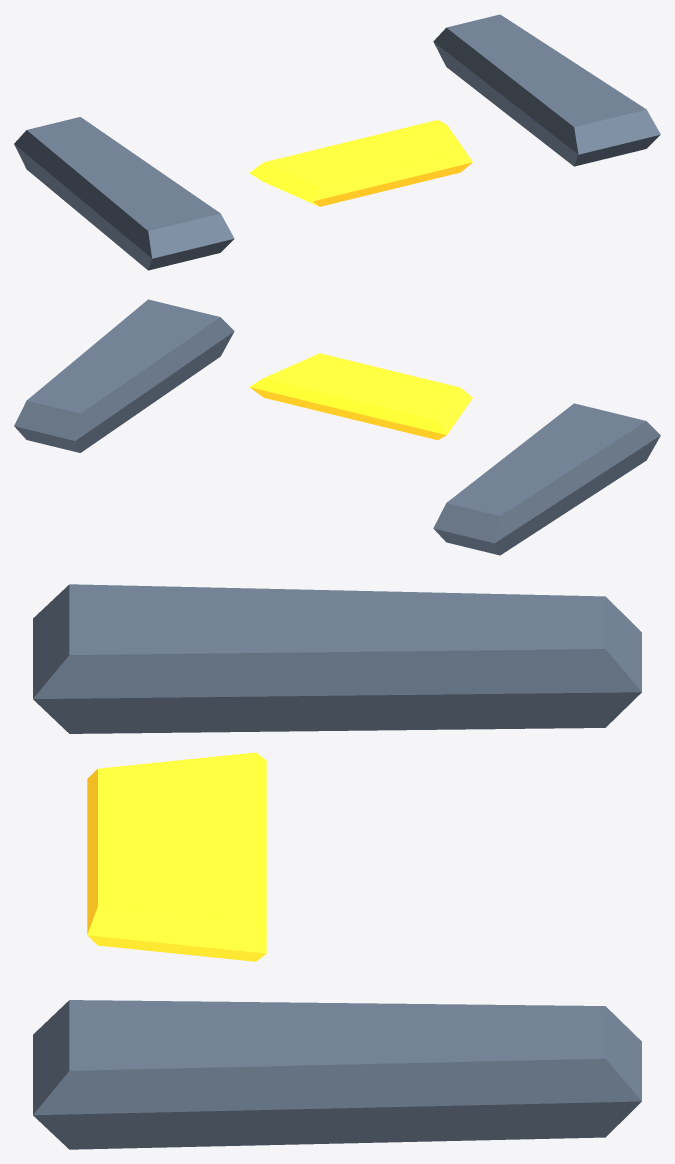
File: player_upgrade_twin_cannons.glb
The picture shows the model from 3 angles, top to bottom: view 1: azimuth 30°, elevation 25°; view 2: azimuth 150°, elevation 25°; view 3: azimuth 270°, elevation 25°; orthographic projection. The views are drawn at different scales.
Parts seen in each view (by area): view 1: PLAYER UPGRADE // TWIN CANNONS; view 2: PLAYER UPGRADE // TWIN CANNONS; view 3: PLAYER UPGRADE // TWIN CANNONS.
Part boxes in pixels (<box>): PLAYER UPGRADE // TWIN CANNONS: <box>14,14,660,270</box>; PLAYER UPGRADE // TWIN CANNONS: <box>14,299,660,555</box>; PLAYER UPGRADE // TWIN CANNONS: <box>33,584,641,1149</box>.
Bounding box in the file's own units: 2.16 × 0.16 × 1.12.
